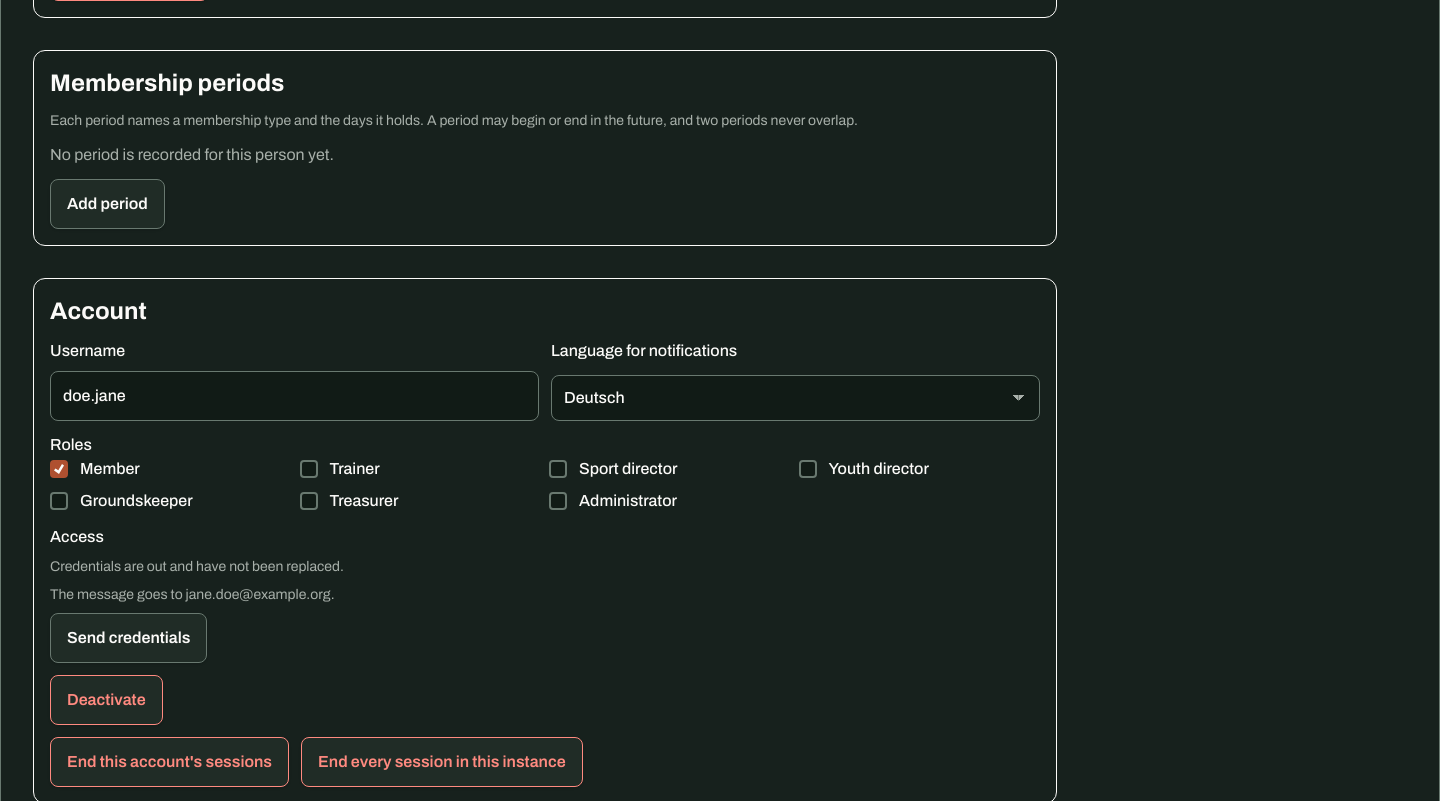
Test case: AdminPersonView › given the username is edited, when the page is read, then one bar names the person it saves
The image size is (1440, 801).
(page scrolled)
Step 1. Type "!" into the field with test id "account-username" → (294, 396), box [50,371,539,421]
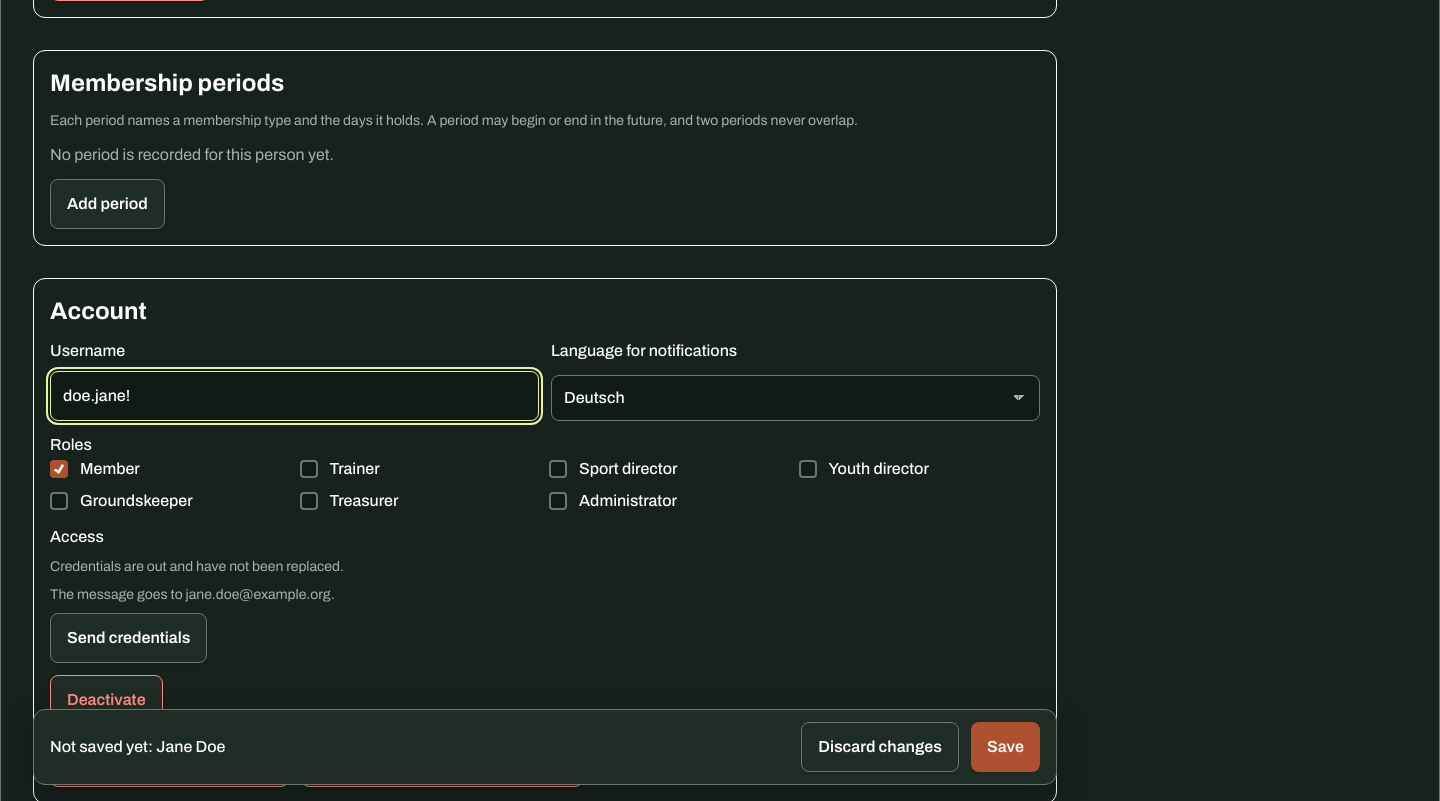
Check: the text with test id "unsaved-mark-person" reads "Not saved yet: Jane Doe", box [50,738,226,755]
Check: the number of elements with test id "save-bar" is 1, box [33,709,1057,785]
